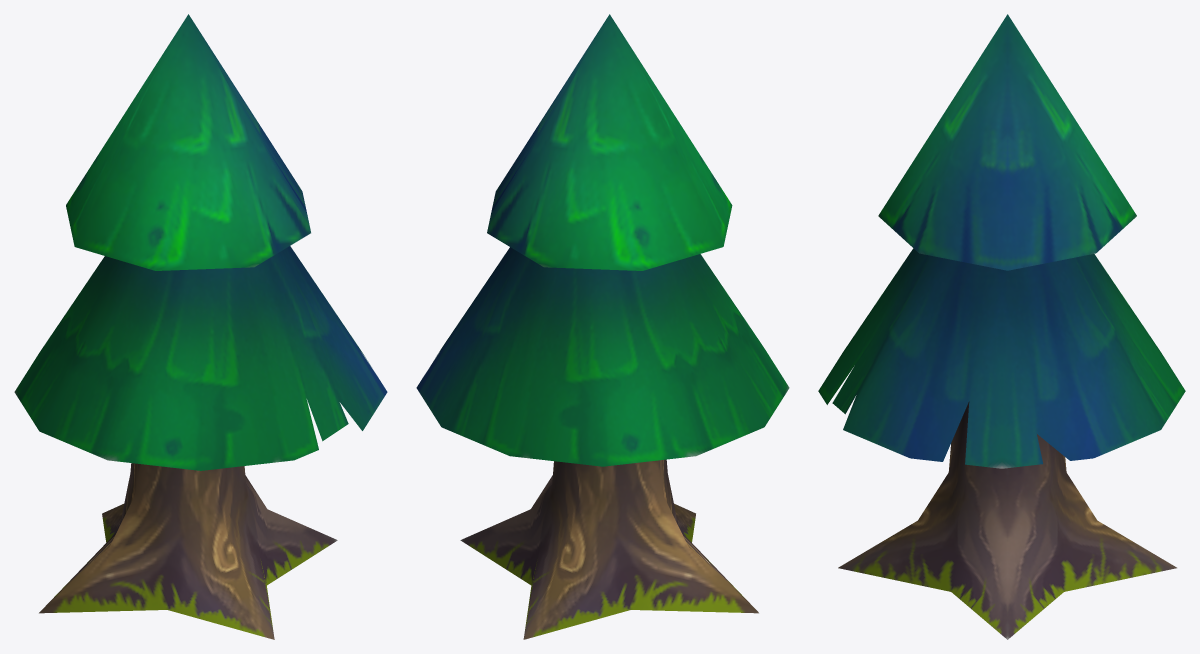
The model's file is scenes_construction_tree01e.FBX.
3 views of the same model, side by side, from view 1: azimuth 30°, elevation 25°; view 2: azimuth 150°, elevation 25°; view 3: azimuth 270°, elevation 25° (orthographic).
Visible parts, largest first — view 1: scenes_construction_tree01e; view 2: scenes_construction_tree01e; view 3: scenes_construction_tree01e.
Part boxes in pixels (x1,y1,x2,y2): scenes_construction_tree01e: (14,14,387,639); scenes_construction_tree01e: (416,14,789,639); scenes_construction_tree01e: (818,14,1185,639).
Bounding box in the file's own units: 485 × 806 × 485.
